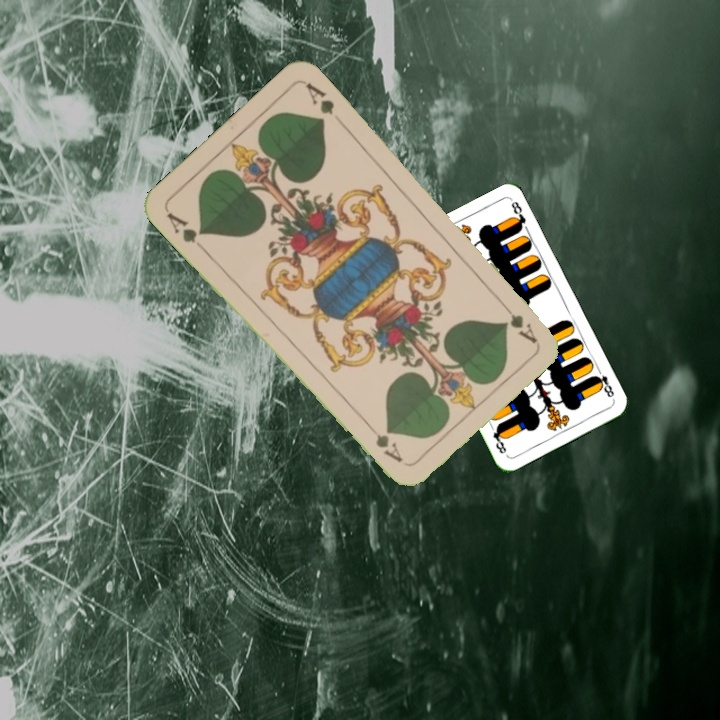E8: (590, 364, 617, 402)
GA: (495, 296, 539, 346), (162, 208, 208, 253)
